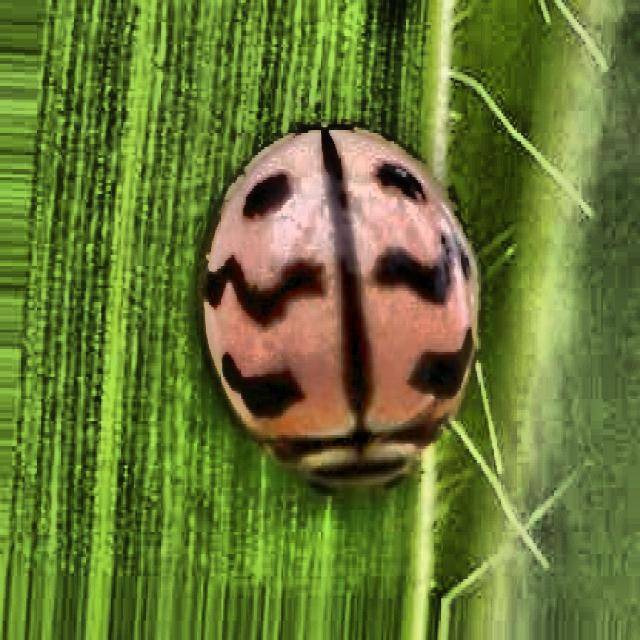Asian-Lady-beetle: (165, 57, 508, 517)
